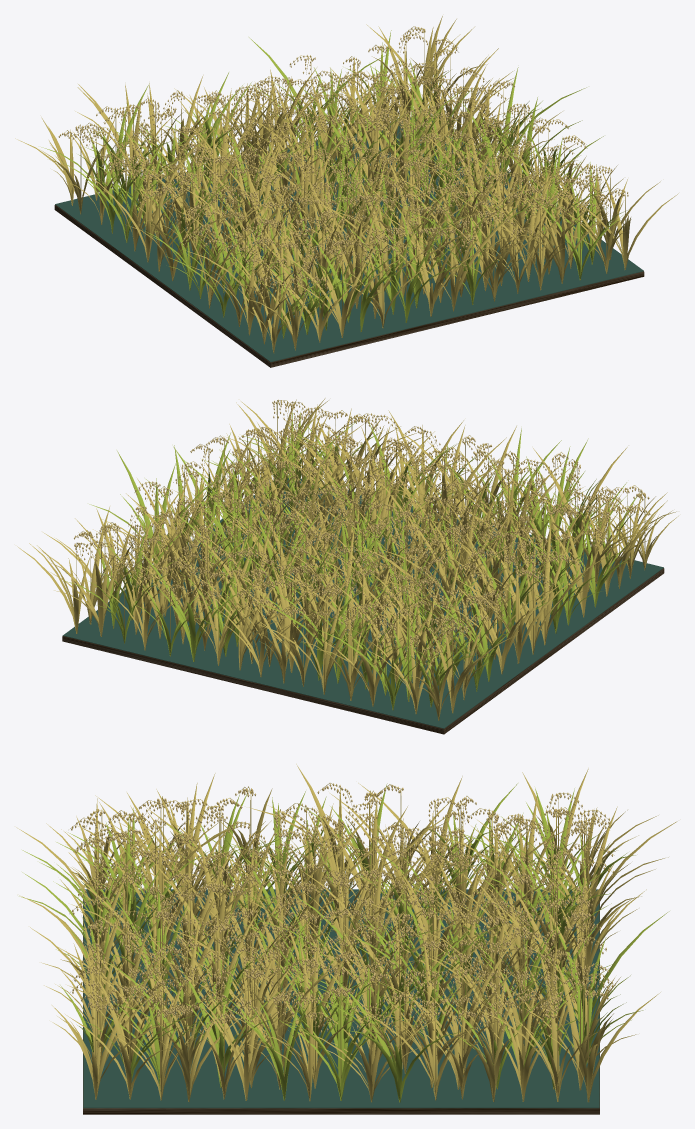
The model's file is KL_LS_Paddy_Ripe_4m.gltf.
3 views of the same model, one above another, from view 1: azimuth 30°, elevation 25°; view 2: azimuth 150°, elevation 25°; view 3: azimuth 270°, elevation 25° (orthographic). The views are drawn at different scales.
Parts seen in each view (by area): view 1: TF3_KL_LS_Paddy_Ripe_4m; view 2: TF3_KL_LS_Paddy_Ripe_4m; view 3: TF3_KL_LS_Paddy_Ripe_4m.
Boxes of the visible parts, bbox=[...] form: TF3_KL_LS_Paddy_Ripe_4m: bbox=[15, 16, 678, 367]; TF3_KL_LS_Paddy_Ripe_4m: bbox=[17, 398, 678, 734]; TF3_KL_LS_Paddy_Ripe_4m: bbox=[16, 764, 677, 1114].
Bounding box in the file's own units: 5.07 × 1.01 × 5.16.
5 materials, 1 textured.
